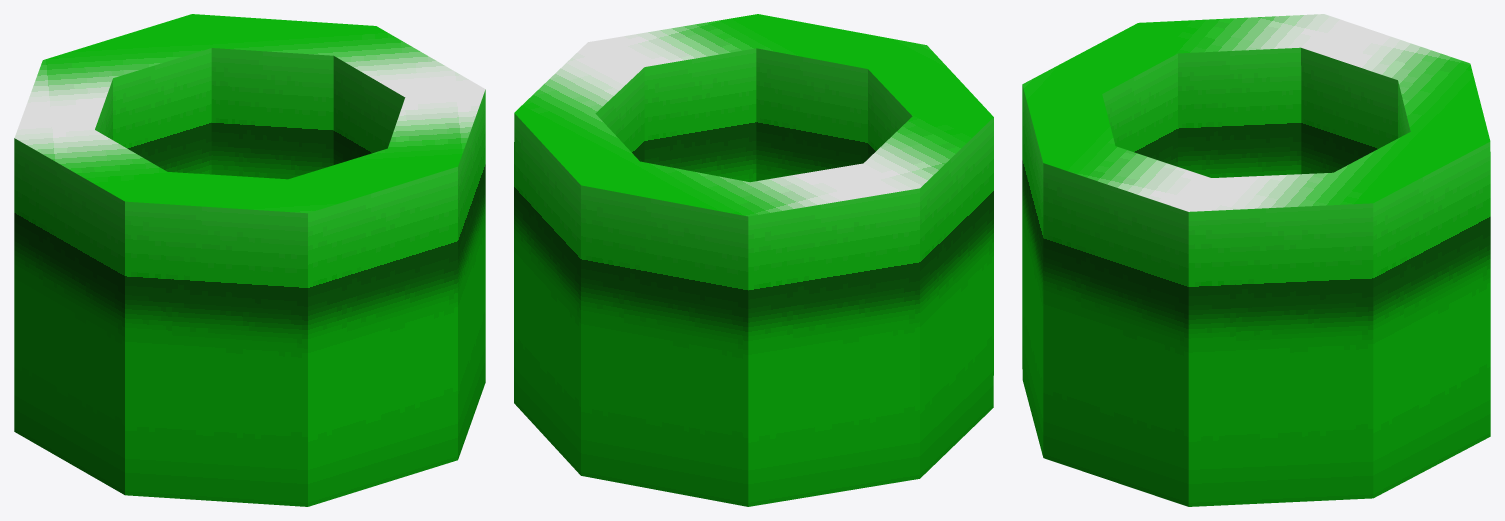
Rendered from pipe.glb.
3 views of the same model, side by side, from view 1: azimuth 30°, elevation 25°; view 2: azimuth 150°, elevation 25°; view 3: azimuth 270°, elevation 25° (orthographic).
Parts seen in each view (by area): view 1: Pipe_ShapeIndexedFaceSet.47_ShapeIndexedFaceSet, ShapeIndexedFaceSet.48_ShapeIndexedFaceSet; view 2: Pipe_ShapeIndexedFaceSet.47_ShapeIndexedFaceSet, ShapeIndexedFaceSet.48_ShapeIndexedFaceSet; view 3: Pipe_ShapeIndexedFaceSet.47_ShapeIndexedFaceSet, ShapeIndexedFaceSet.48_ShapeIndexedFaceSet.
Boxes of the visible parts, x1,y1,x2,y2 form: Pipe_ShapeIndexedFaceSet.47_ShapeIndexedFaceSet: [14, 48, 485, 506]; ShapeIndexedFaceSet.48_ShapeIndexedFaceSet: [14, 14, 485, 213]; Pipe_ShapeIndexedFaceSet.47_ShapeIndexedFaceSet: [514, 48, 993, 506]; ShapeIndexedFaceSet.48_ShapeIndexedFaceSet: [514, 14, 993, 216]; Pipe_ShapeIndexedFaceSet.47_ShapeIndexedFaceSet: [1022, 47, 1490, 506]; ShapeIndexedFaceSet.48_ShapeIndexedFaceSet: [1022, 14, 1490, 211].
Size of the model in its own units: 0.2947 by 0.2051 by 0.2948.
2 materials, 2 textured.
